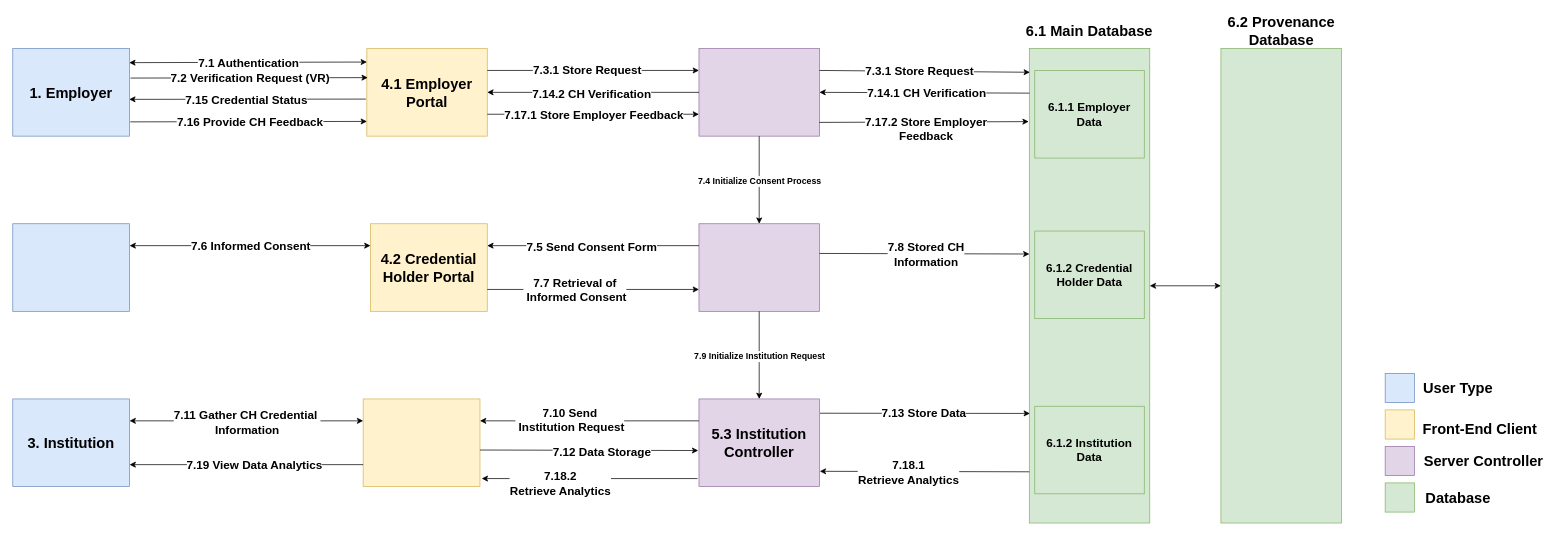
Image size: 1559x536. Some labels were removed from this diagram. Each missing label, with the centre of its shape:
"2. Certificate Holder" belongs at (x=71, y=267).
"4.3 Institution Portal" belongs at (x=421, y=442).
"5.1 Employer Controller" belongs at (x=758, y=92).
"5.2 Credential Holder Controller" belongs at (x=758, y=267).
